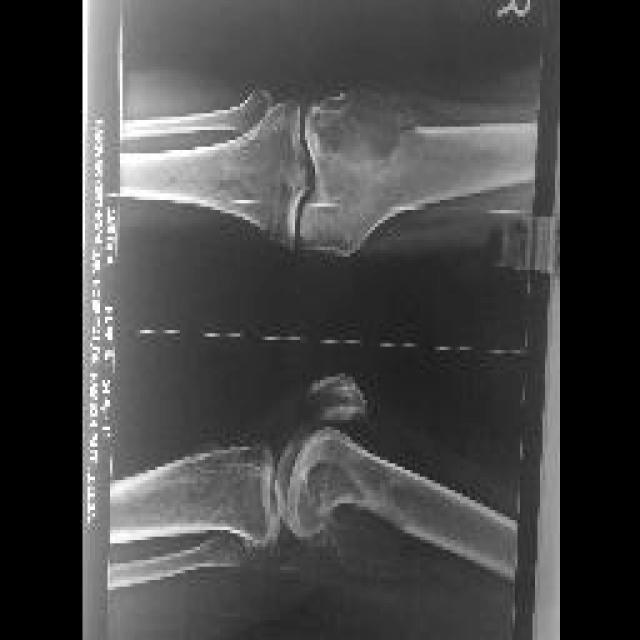bone-cancer: (299, 460, 404, 558), (309, 85, 419, 167)
